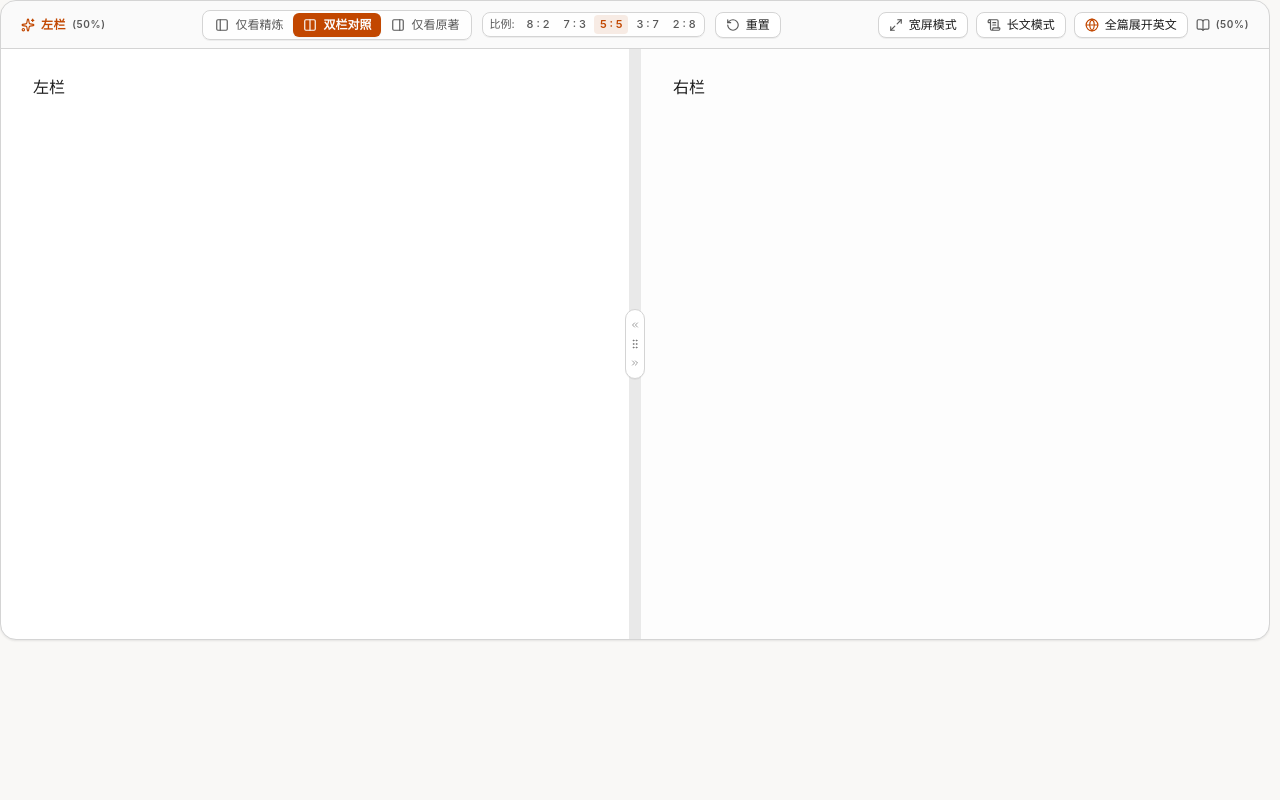
Test: SplitReader 双栏独立滚动组件 › 重置按钮把比例/视图/宽屏/长文恢复默认，并写回存储
The width and height of the screenshot is (1280, 800).
Click the button "7 : 3" at (575, 25), box [558, 15, 592, 34]
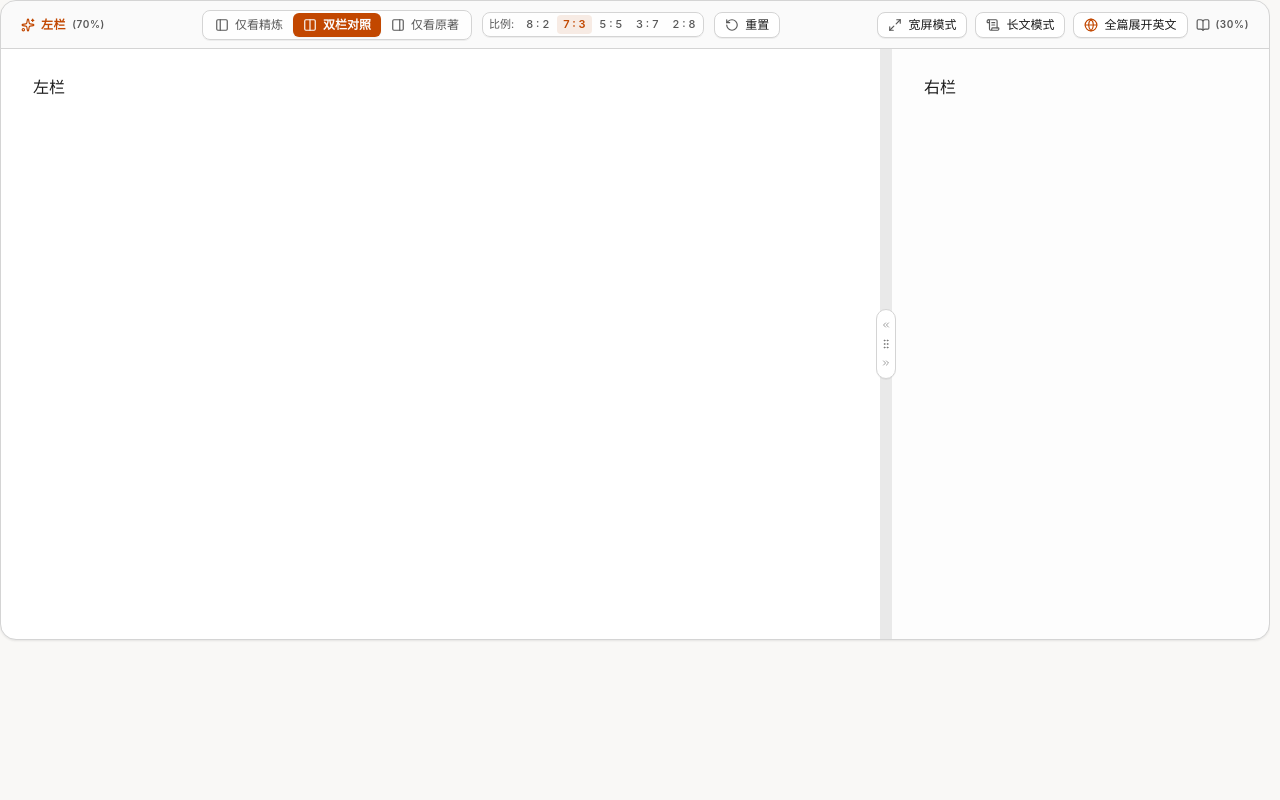
Click the button with aria-label "展开宽屏模式" at (922, 24), box [878, 12, 968, 38]
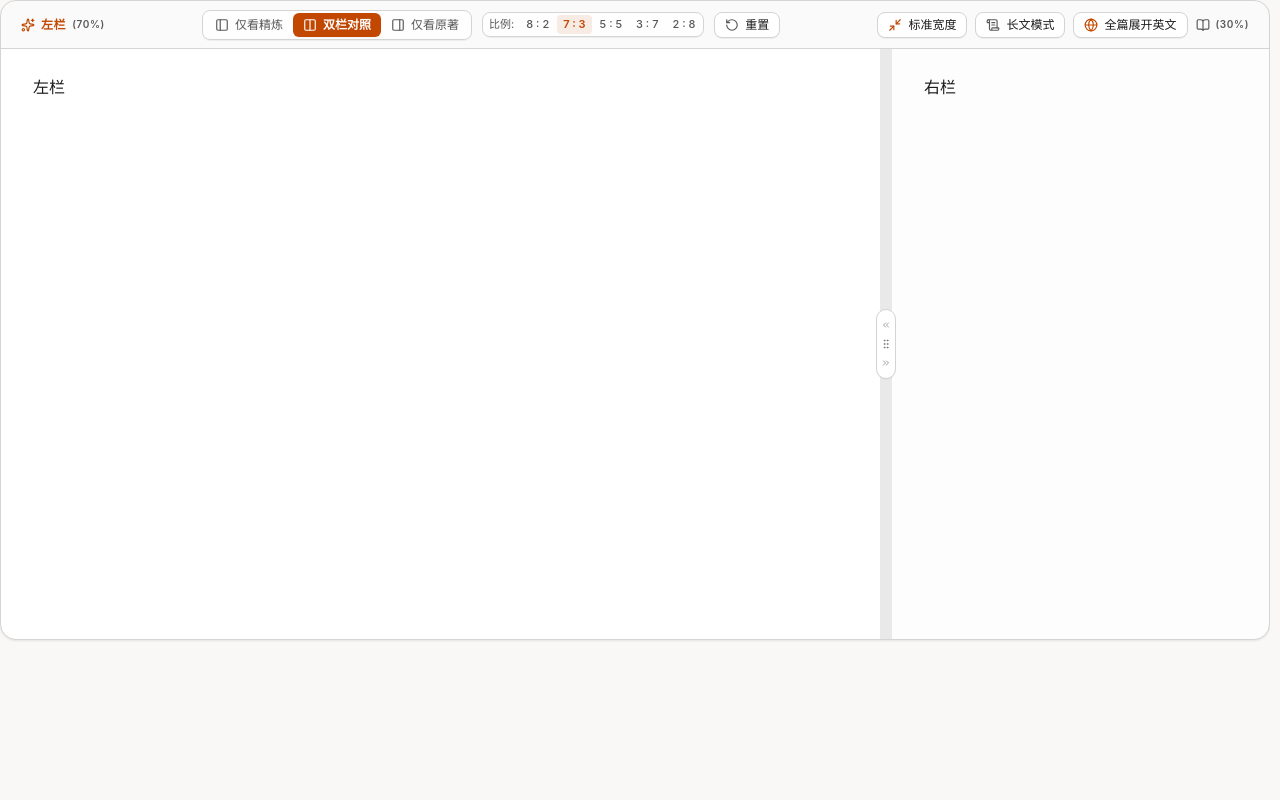
Click the button with aria-label "长文展开流动" at (1020, 24), box [976, 12, 1066, 38]
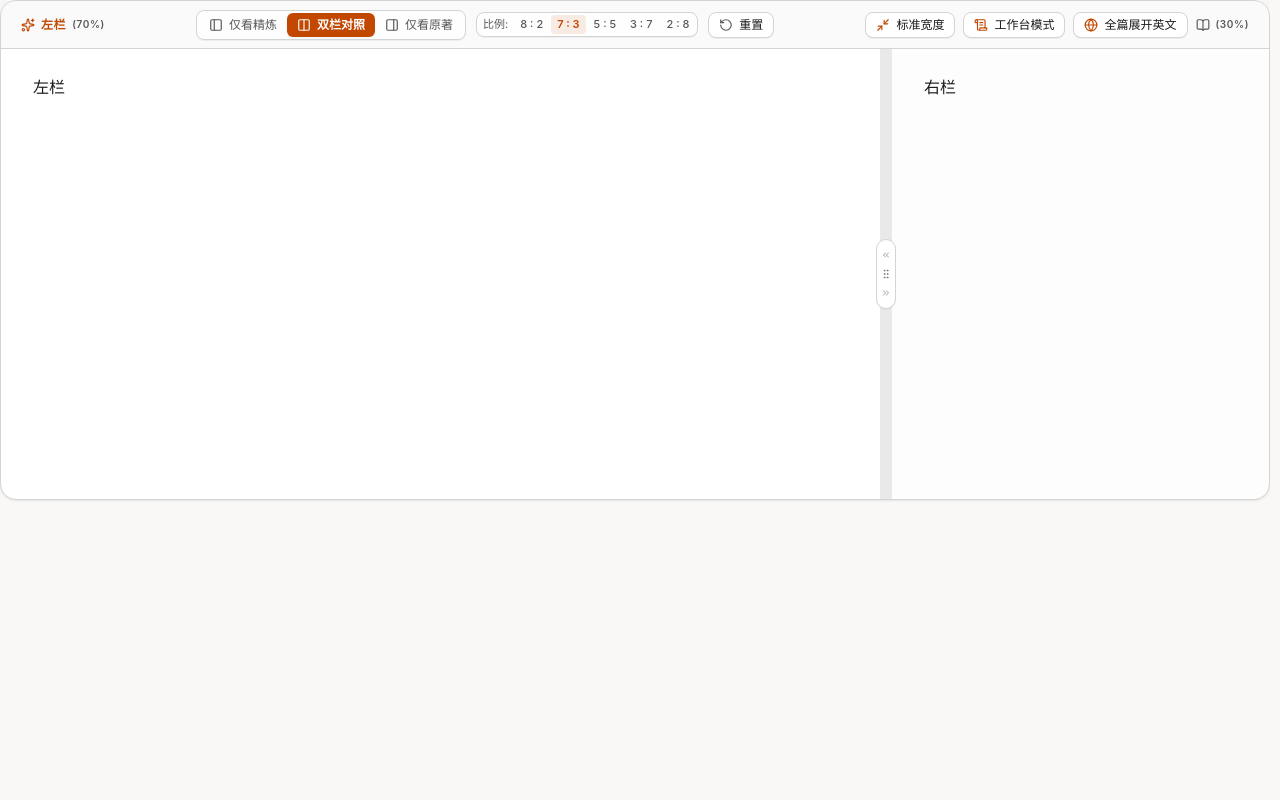
Click the button "仅看原著" at (419, 24), box [375, 12, 463, 36]
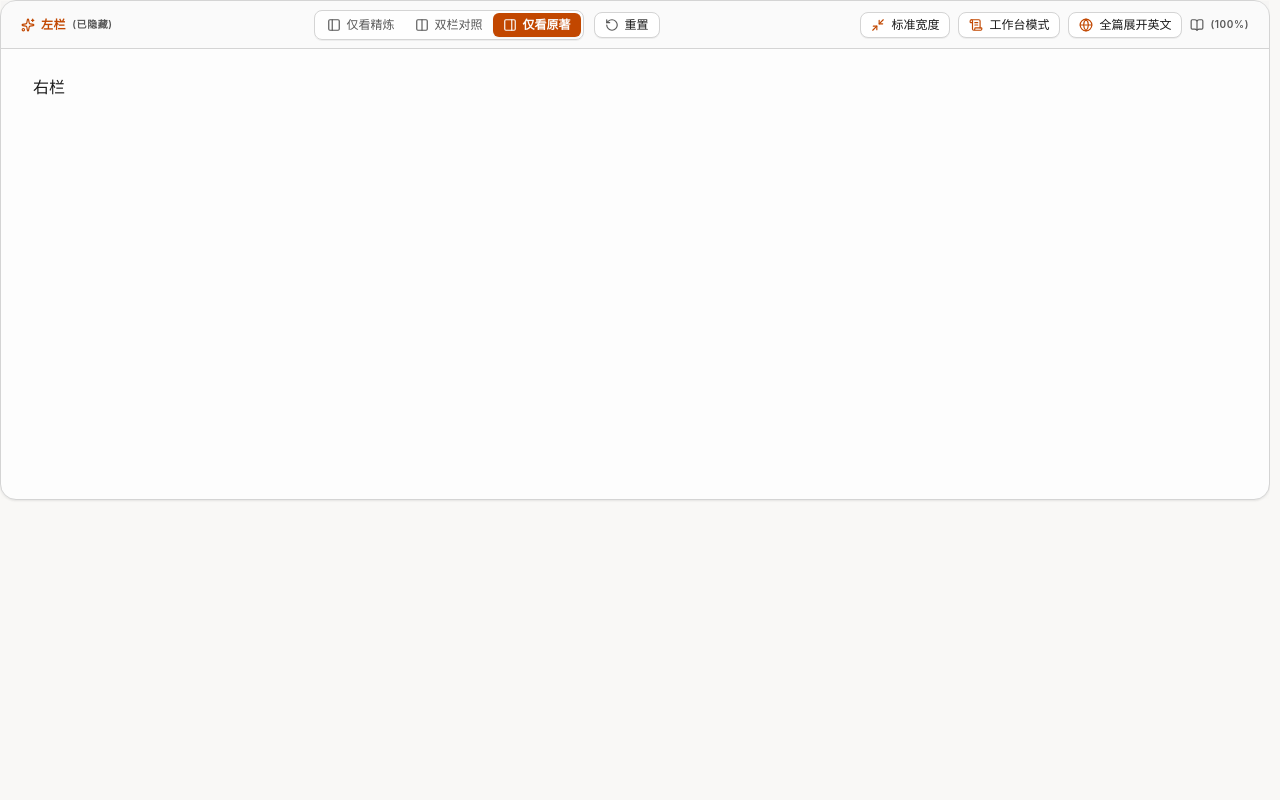
Note: 单栏模式下比例组隐藏，重置按钮仍常驻
Click the button with aria-label "重置分栏设置" at (627, 24), box [594, 12, 660, 38]
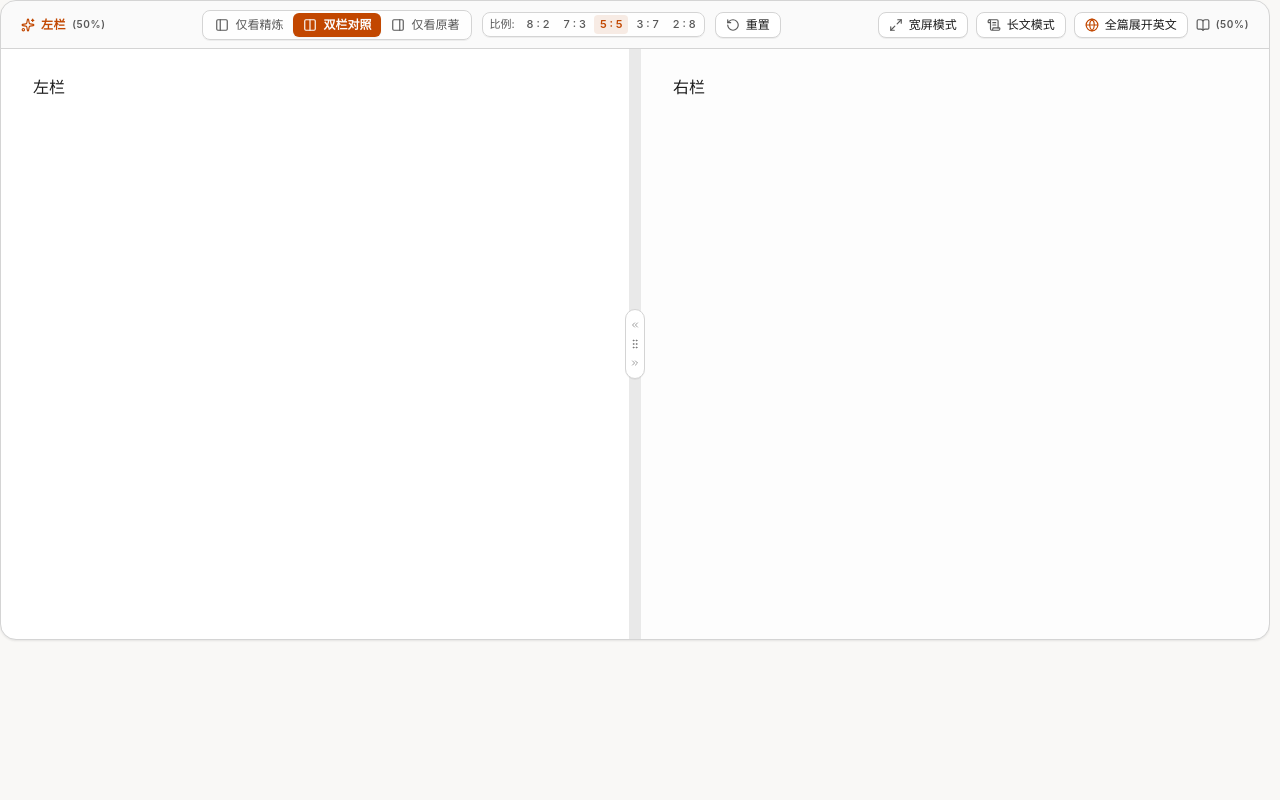
Now the button with aria-label "展开宽屏模式" is shown, box [878, 12, 968, 38]
Now the button with aria-label "长文展开流动" is shown, box [976, 12, 1066, 38]
